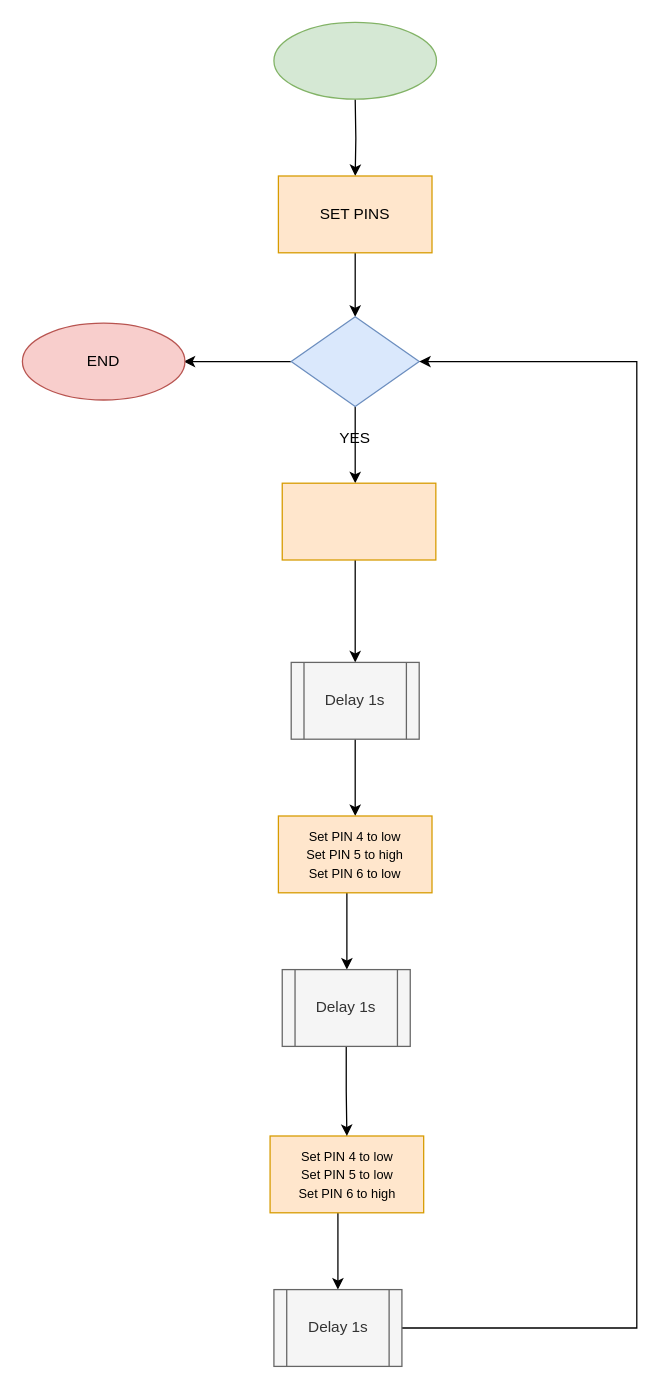
Some shapes in this 669 by 1389 pixel diagram are drawn without their labels. Here are the shapes that lost their labels. From the top down, the centre of each, then its label:
At point (354, 60): "START".
At point (354, 361): "True ?".
At point (358, 521): "Set PIN 4 to high Set PIN 5 to low Set PIN 6 to low".
